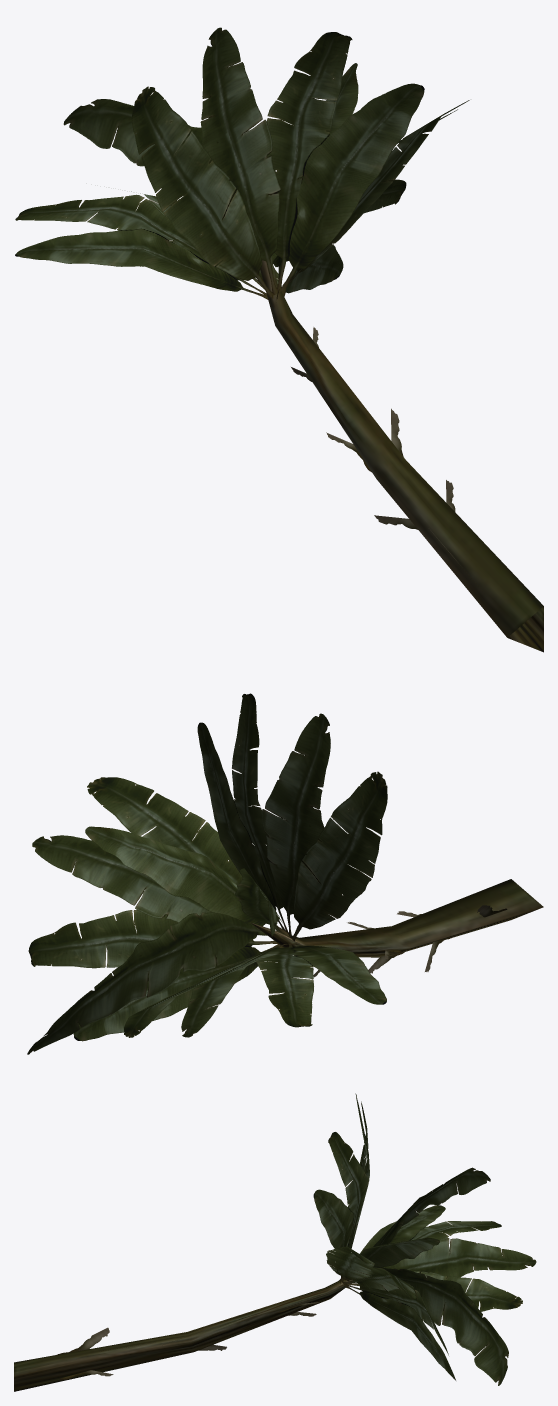
Rendered from MEP_Palm_04_S.fbx.
The picture shows the model from 3 angles, top to bottom: view 1: azimuth 30°, elevation 25°; view 2: azimuth 150°, elevation 25°; view 3: azimuth 270°, elevation 25°; orthographic projection. The views are drawn at different scales.
Visible parts, largest first — view 1: MEP_Palm_04_S; view 2: MEP_Palm_04_S; view 3: MEP_Palm_04_S.
Boxes of the visible parts, x1,y1,x2,y2 form: MEP_Palm_04_S: [15, 27, 543, 652]; MEP_Palm_04_S: [27, 693, 543, 1054]; MEP_Palm_04_S: [14, 1093, 536, 1391].
Bounding box in the file's own units: 3.89 × 3.89 × 6.46.
